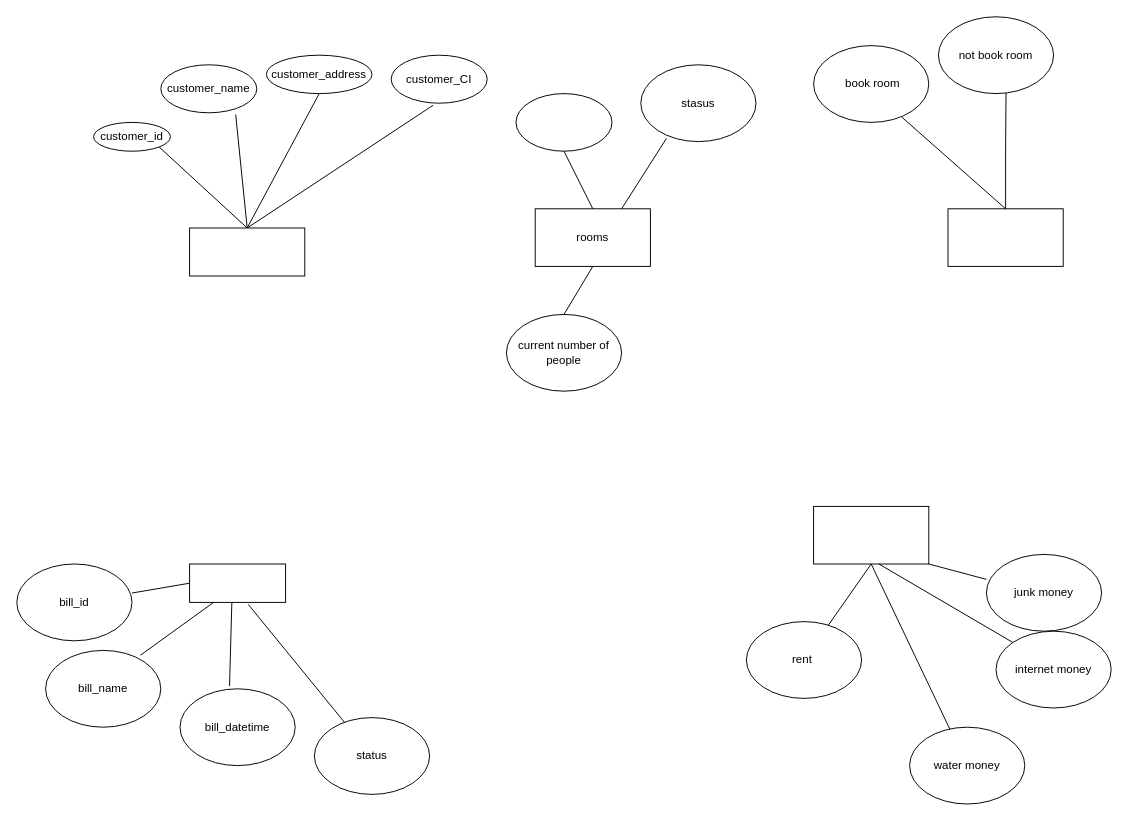
Image size: 1128x831. Some labels were removed from this diagram. Each missing label, with the box of its shape:
actactivity: (947, 208, 1063, 266)
bill slips: (189, 563, 286, 602)
customers: (189, 227, 305, 276)
equiequipment and services: (813, 505, 929, 564)
price: (515, 93, 612, 151)
